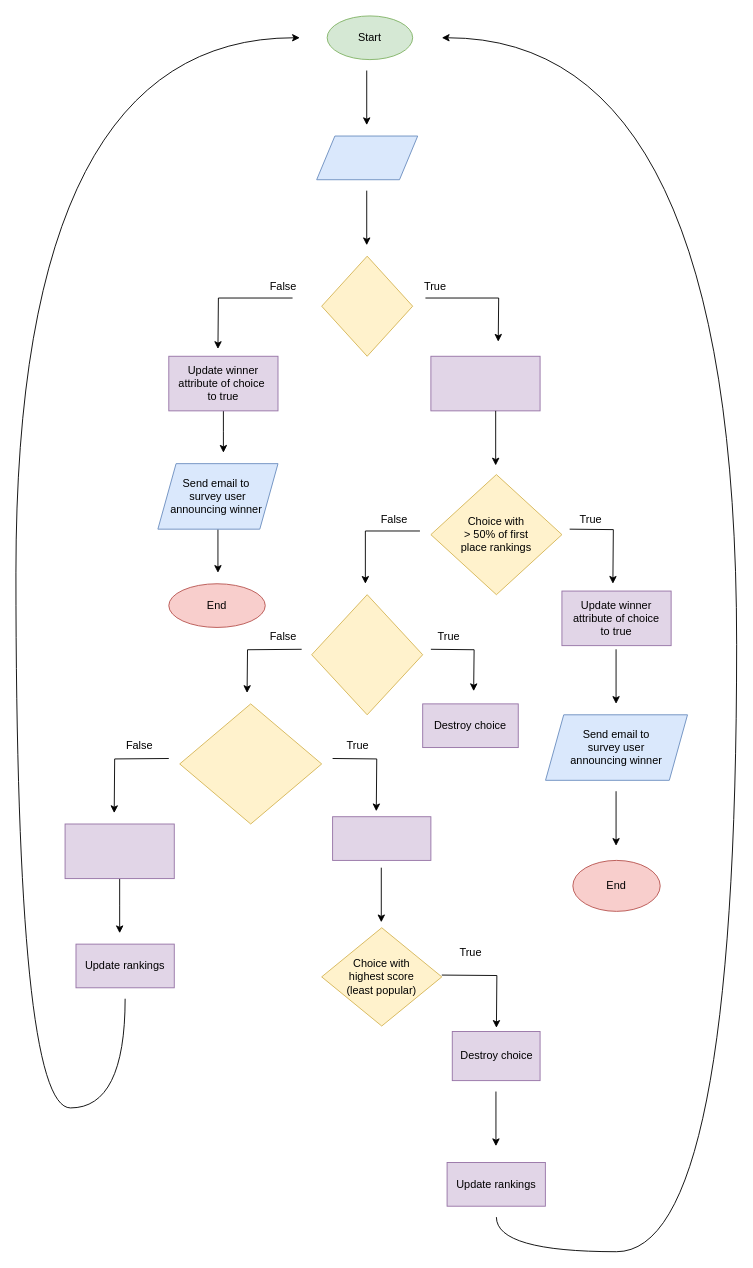
Some shapes in this 753 by 1268 pixel diagram are drawn without their labels. Here are the shapes that lost their labels. From the top down, the centre of each, then its label:
At point (367, 157): "Survey".
At point (367, 305): "More than one choice".
At point (485, 383): "Collect first place rankings for each choicer".
At point (367, 654): "Choice with no first place votes".
At point (250, 763): "More than one choice with the fewest first place votes".
At point (119, 851): "Destroy choice with the fewest first place votes".
At point (381, 838): "Calculate scores".
